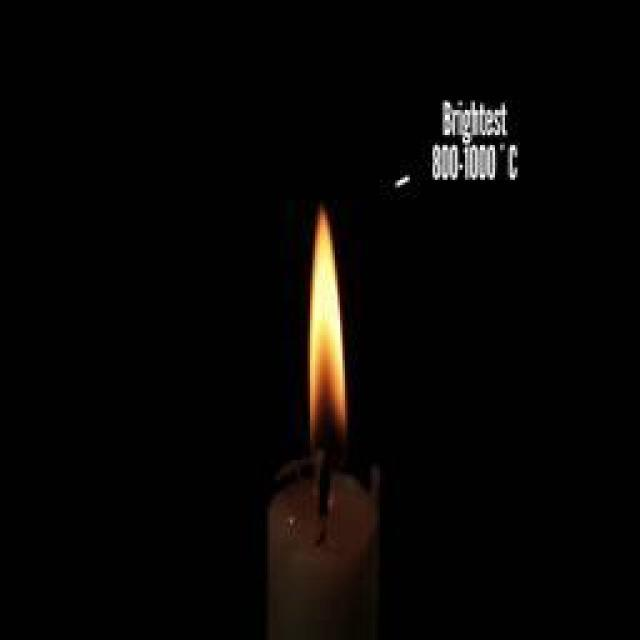Fire: (308, 215, 348, 428)
